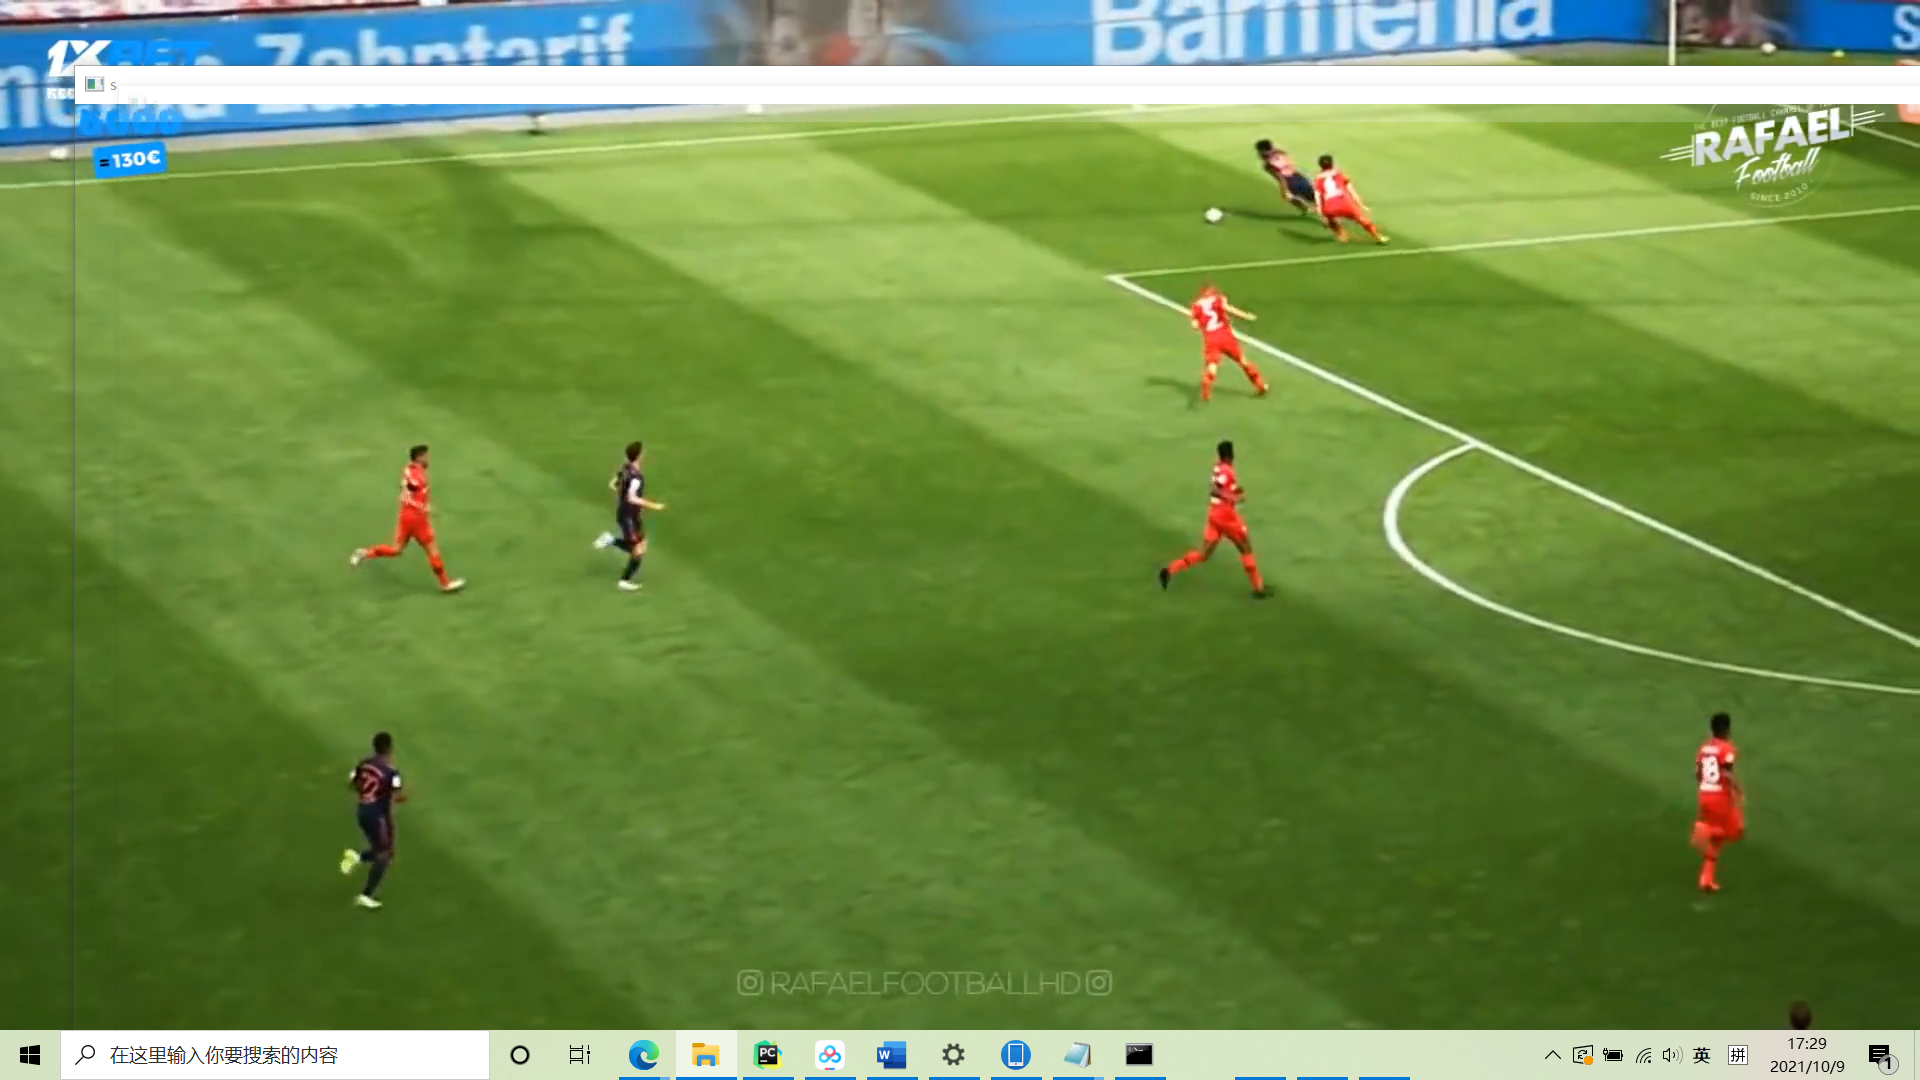ft: (1201, 206, 1225, 225)
